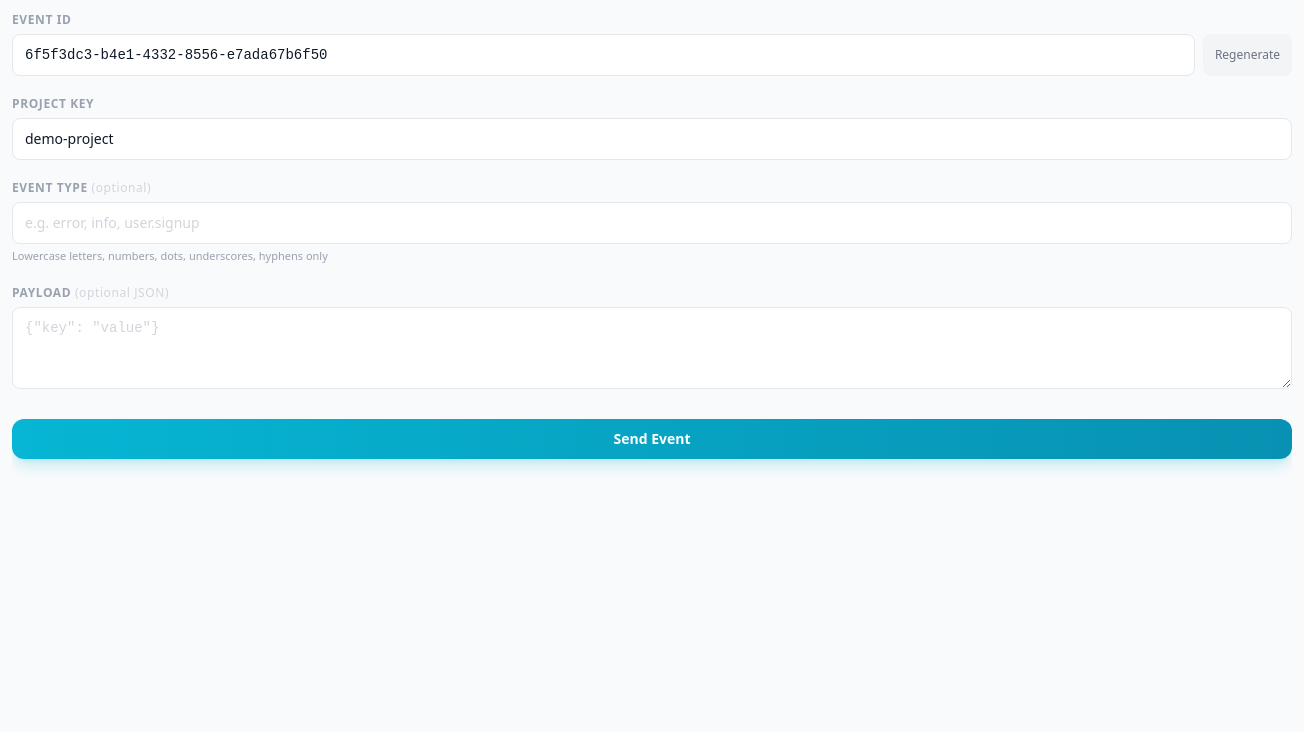
Test: EventForm › shows validation error for empty project key
Clear the field labelled "Project Key" at (652, 139), box [12,118,1292,160]
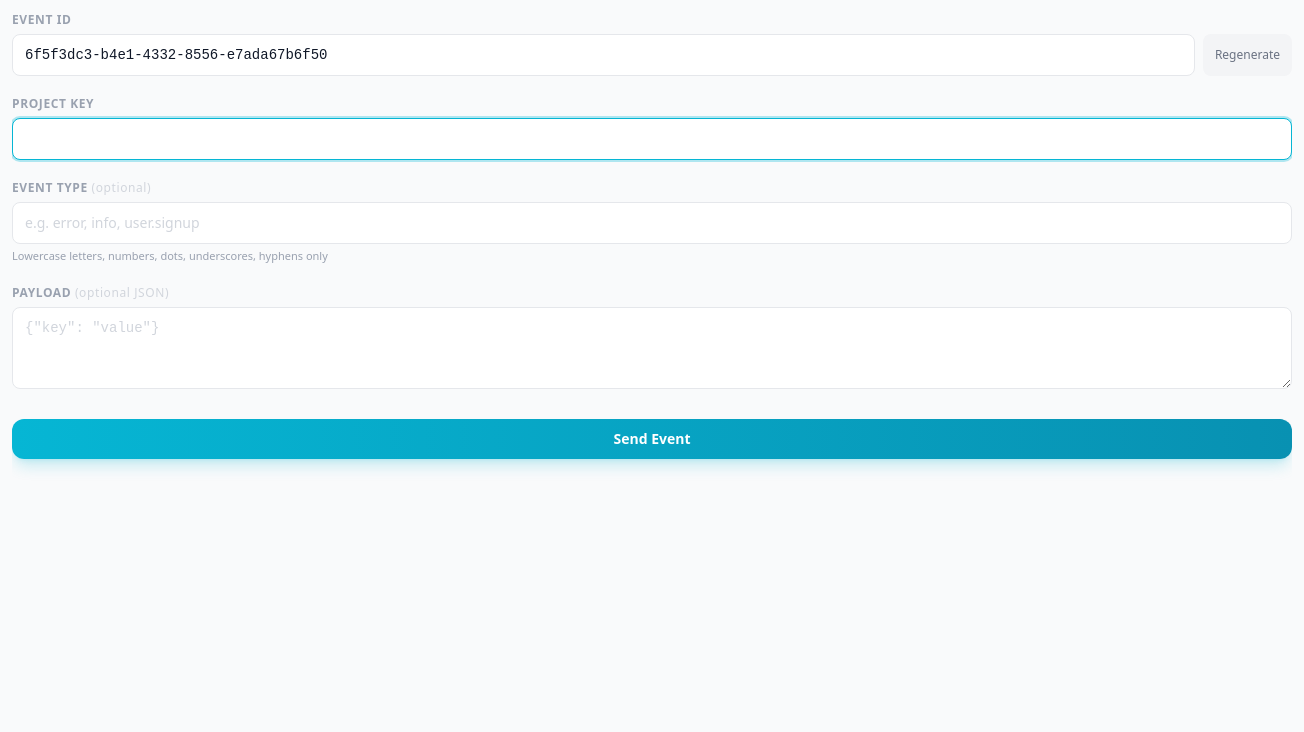
Click the button "Send Event" at (652, 438), box [12,418,1292,458]
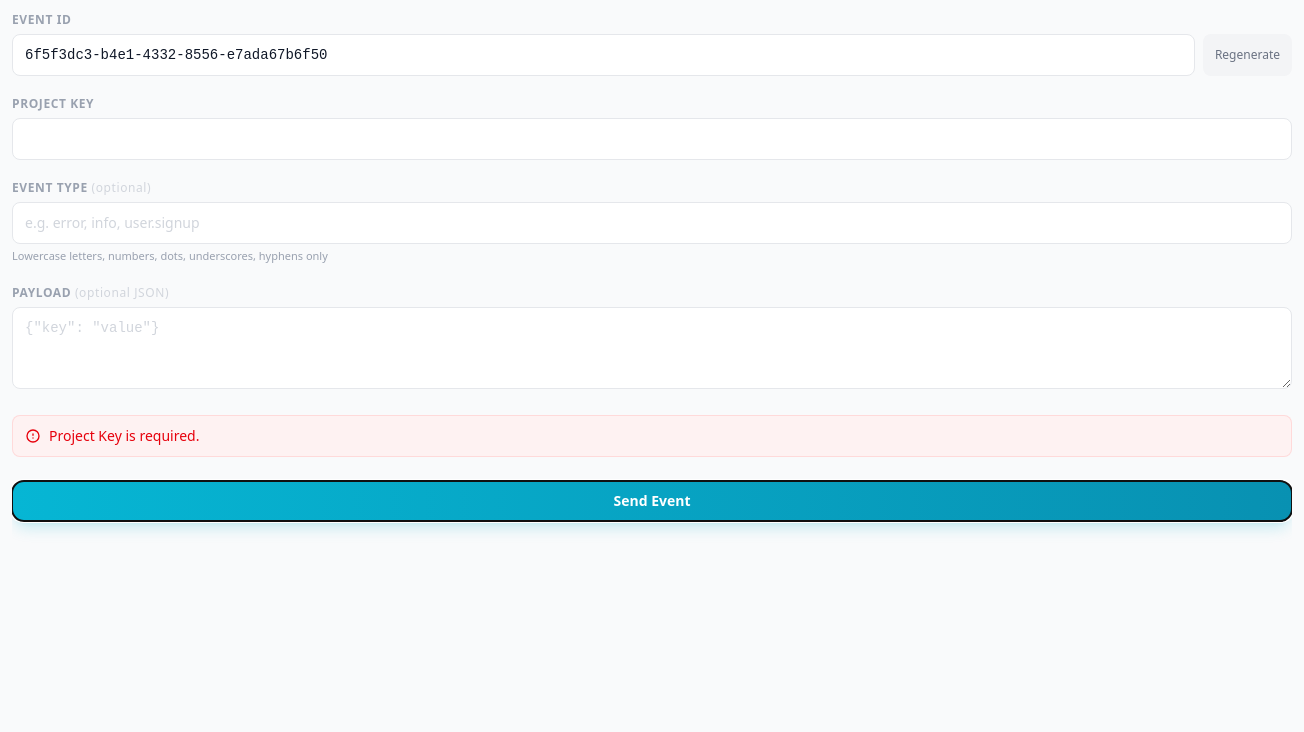
Expected: the text "Project Key is required." is shown, [12,414,1292,456]
